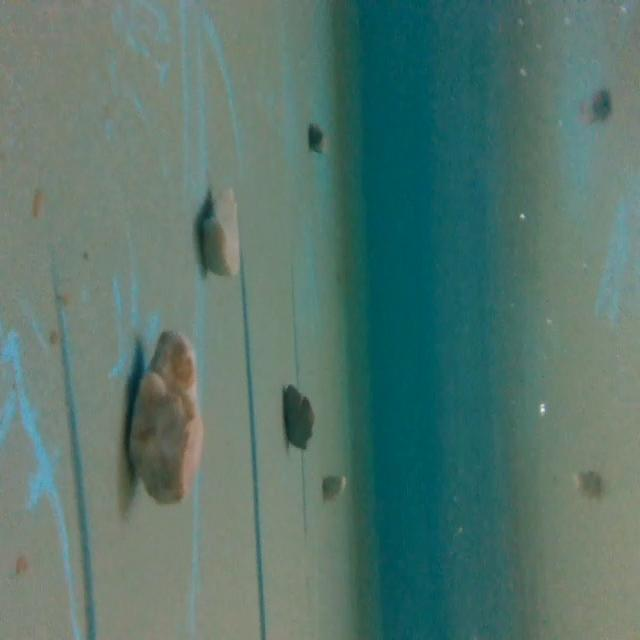rock: (123, 322, 206, 513), (195, 174, 245, 284), (280, 375, 316, 456), (306, 117, 324, 151)
